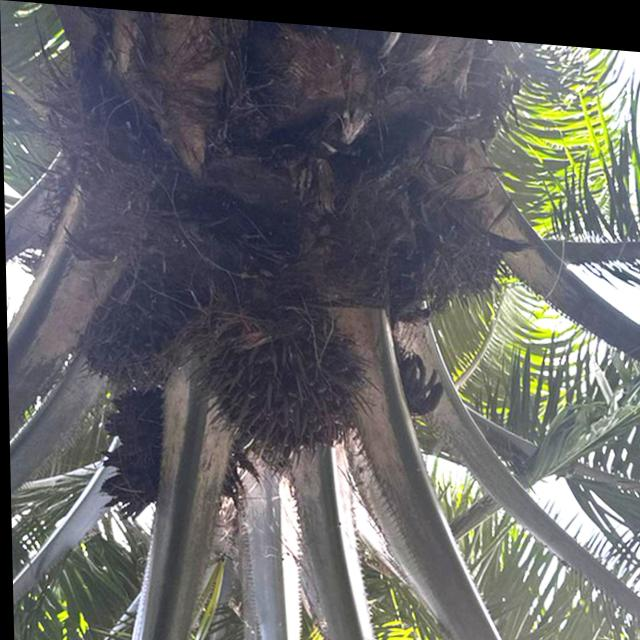ripe: (208, 300, 364, 466), (73, 262, 202, 389)
